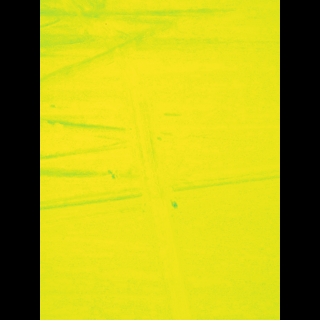Loch: (122, 35, 190, 320), (69, 0, 250, 91), (69, 156, 251, 231), (80, 0, 134, 45)
